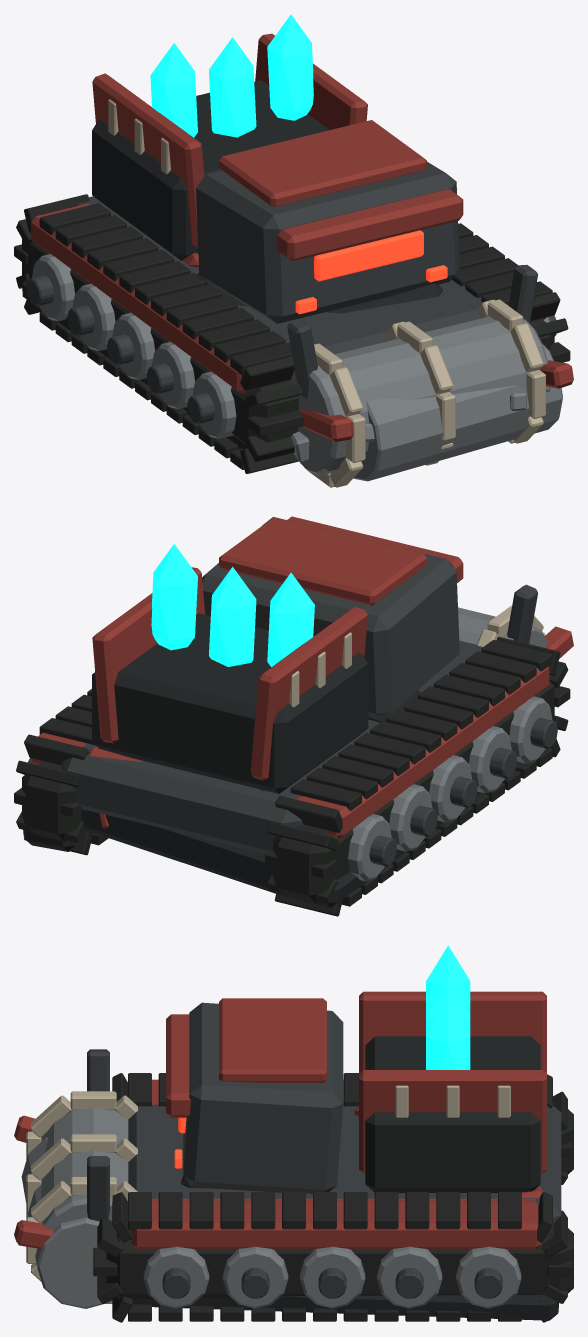
Rendered from ff_en_hrv_01_v1.glb.
3 views of the same model, one above another, from view 1: azimuth 30°, elevation 25°; view 2: azimuth 150°, elevation 25°; view 3: azimuth 270°, elevation 25° (orthographic). The views are drawn at different scales.
Parts seen in each view (by area): view 1: FF_EN_HRV_01_M_EnemyObsidianArmor_runtime, FF_EN_HRV_01_M_EnemyTrack_runtime, FF_EN_HRV_01_M_EnemyCrimsonArmor_runtime, collector_head_M_EnemyGunmetal_runtime, FF_EN_HRV_01_M_EnemyRecess_runtime, wreck_collector, collector_head_M_EnemyMarking_runtime, FF_EN_HRV_01_M_EnemyGunmetal_runtime, cargo_slot_2_M_EnemyHuijing_runtime, cargo_slot_1_M_EnemyHuijing_runtime, FF_EN_HRV_01_M_EnemySignal_runtime, cargo_slot_0_M_EnemyHuijing_runtime (+4 smaller); view 2: FF_EN_HRV_01_M_EnemyTrack_runtime, FF_EN_HRV_01_M_EnemyObsidianArmor_runtime, FF_EN_HRV_01_M_EnemyCrimsonArmor_runtime, FF_EN_HRV_01_M_EnemyRecess_runtime, FF_EN_HRV_01_M_EnemyGunmetal_runtime, wreck_chassis, cargo_slot_2_M_EnemyHuijing_runtime, cargo_slot_1_M_EnemyHuijing_runtime, cargo_slot_0_M_EnemyHuijing_runtime, collector_head_M_EnemyObsidianArmor_runtime, collector_head_M_EnemyGunmetal_runtime, FF_EN_HRV_01_M_EnemyMarking_runtime (+2 smaller); view 3: FF_EN_HRV_01_M_EnemyCrimsonArmor_runtime, FF_EN_HRV_01_M_EnemyObsidianArmor_runtime, FF_EN_HRV_01_M_EnemyTrack_runtime, FF_EN_HRV_01_M_EnemyRecess_runtime, FF_EN_HRV_01_M_EnemyGunmetal_runtime, collector_head_M_EnemyMarking_runtime, wreck_collector, collector_head_M_EnemyGunmetal_runtime, wreck_chassis, collector_head_M_EnemyObsidianArmor_runtime, cargo_slot_2_M_EnemyHuijing_runtime, cargo_slot_0_M_EnemyHuijing_runtime (+3 smaller).
Part boxes in pixels (x1,y1,x2,y2): FF_EN_HRV_01_M_EnemyObsidianArmor_runtime: (26,162,556,424); FF_EN_HRV_01_M_EnemyTrack_runtime: (14,194,570,473); FF_EN_HRV_01_M_EnemyCrimsonArmor_runtime: (31,33,546,393); collector_head_M_EnemyGunmetal_runtime: (290,316,550,475); FF_EN_HRV_01_M_EnemyRecess_runtime: (92,80,329,260); wreck_collector: (291,344,562,481); collector_head_M_EnemyMarking_runtime: (307,299,545,487); FF_EN_HRV_01_M_EnemyGunmetal_runtime: (32,254,549,438); cargo_slot_2_M_EnemyHuijing_runtime: (267,14,313,120); cargo_slot_1_M_EnemyHuijing_runtime: (209,37,256,137); FF_EN_HRV_01_M_EnemySignal_runtime: (295,230,447,314); cargo_slot_0_M_EnemyHuijing_runtime: (150,43,197,137); FF_EN_HRV_01_M_EnemyTrack_runtime: (14,636,570,916); FF_EN_HRV_01_M_EnemyObsidianArmor_runtime: (28,517,557,866); FF_EN_HRV_01_M_EnemyCrimsonArmor_runtime: (31,516,549,838); FF_EN_HRV_01_M_EnemyRecess_runtime: (92,613,368,793); FF_EN_HRV_01_M_EnemyGunmetal_runtime: (34,696,552,881); wreck_chassis: (23,690,518,907); cargo_slot_2_M_EnemyHuijing_runtime: (151,544,197,650); cargo_slot_1_M_EnemyHuijing_runtime: (209,566,256,666); cargo_slot_0_M_EnemyHuijing_runtime: (267,572,314,666); collector_head_M_EnemyObsidianArmor_runtime: (507,584,537,643); collector_head_M_EnemyGunmetal_runtime: (458,607,547,647); FF_EN_HRV_01_M_EnemyMarking_runtime: (289,632,351,707); FF_EN_HRV_01_M_EnemyCrimsonArmor_runtime: (131,991,546,1249); FF_EN_HRV_01_M_EnemyObsidianArmor_runtime: (128,1002,561,1298); FF_EN_HRV_01_M_EnemyTrack_runtime: (93,1073,573,1322); FF_EN_HRV_01_M_EnemyRecess_runtime: (365,1036,540,1192); FF_EN_HRV_01_M_EnemyGunmetal_runtime: (143,1246,521,1308); collector_head_M_EnemyMarking_runtime: (26,1091,137,1303); wreck_collector: (21,1137,112,1308); collector_head_M_EnemyGunmetal_runtime: (38,1107,128,1250); wreck_chassis: (132,1176,559,1320); collector_head_M_EnemyObsidianArmor_runtime: (87,1049,109,1221); cargo_slot_2_M_EnemyHuijing_runtime: (426,1001,470,1069); cargo_slot_0_M_EnemyHuijing_runtime: (426,945,470,1016).
Bounding box in the file's own units: 4.16 × 3.28 × 5.81.
